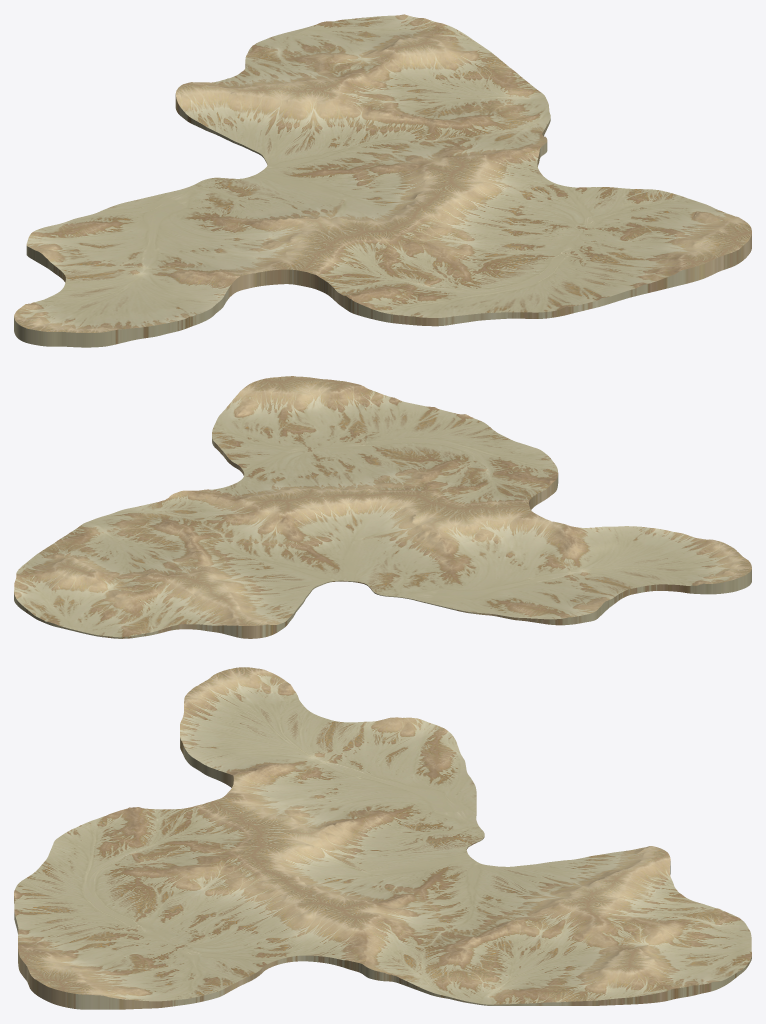
The model's file is terrain.fbx.
3 renders of one model, top to bottom at view 1: azimuth 30°, elevation 25°; view 2: azimuth 150°, elevation 25°; view 3: azimuth 270°, elevation 25°, orthographic. The views are drawn at different scales.
Parts seen in each view (by area): view 1: terrain; view 2: terrain; view 3: terrain.
Boxes of the visible parts, x1,y1,x2,y2 form: terrain: (14,14,751,347); terrain: (14,376,751,638); terrain: (14,667,751,1009).
Size of the model in its own units: 86580 by 1897 by 82475.
